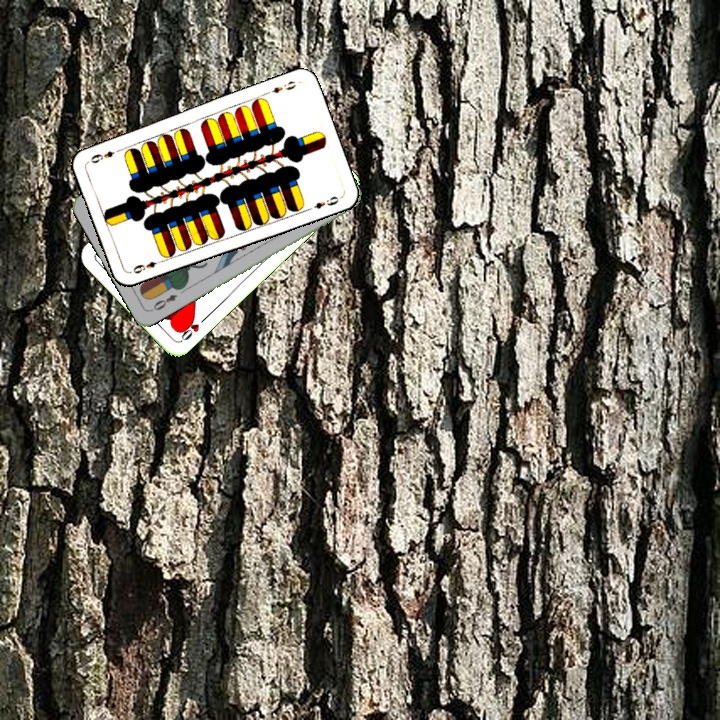E9: (129, 256, 166, 276), (262, 77, 299, 97)
EO: (147, 290, 180, 314)
HO: (175, 313, 209, 344)
